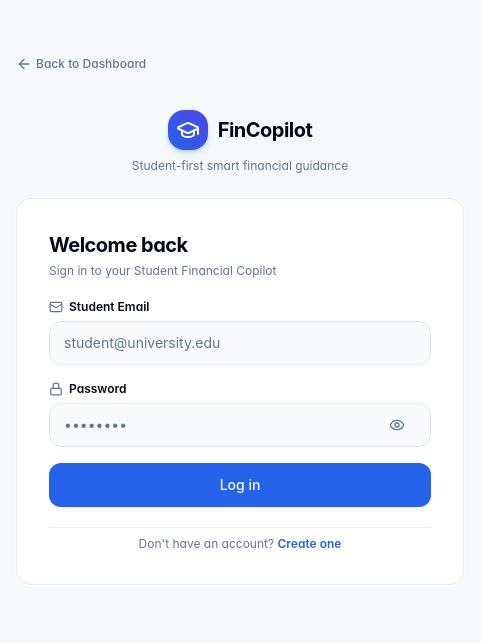
Test: Frontend Authentication Flow › 4. displays friendly error message on invalid login credentials
The image size is (481, 643).
Type "wrong@campus.edu" into the field labelled "Student Email" at (240, 342), box left=49, top=320, right=431, bottom=364
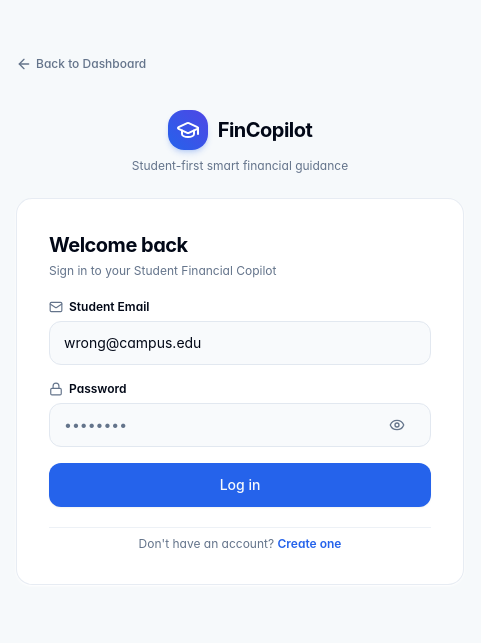
Type "WrongPassword123" into the password field labelled "Password" at (240, 424), box left=49, top=402, right=431, bottom=446
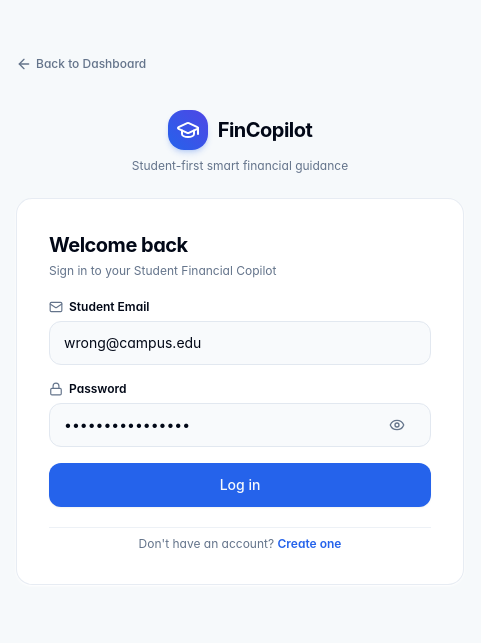
Click the button "Log in" at (240, 484), box left=49, top=462, right=431, bottom=506
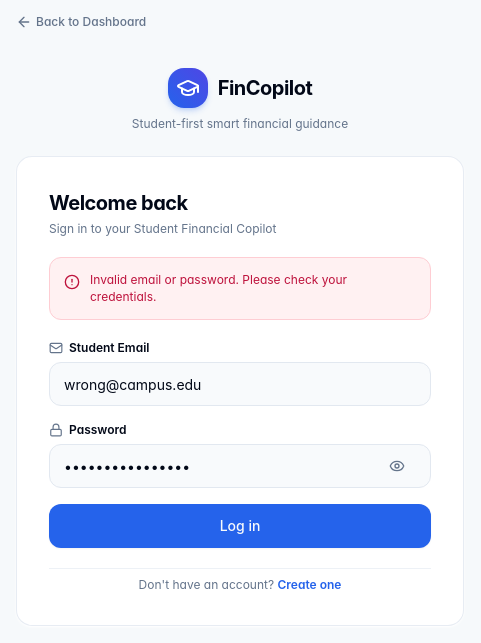
Expected: the message reads "Invalid email or password. Please check your credentials.", left=90, top=272, right=347, bottom=304
